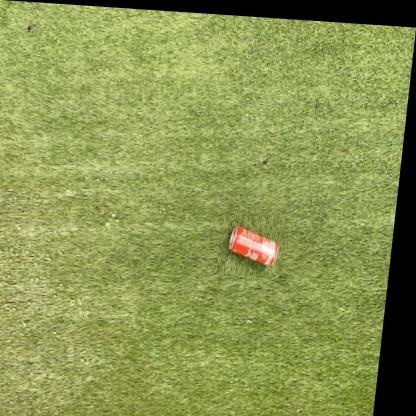trash: (229, 226, 278, 265)
